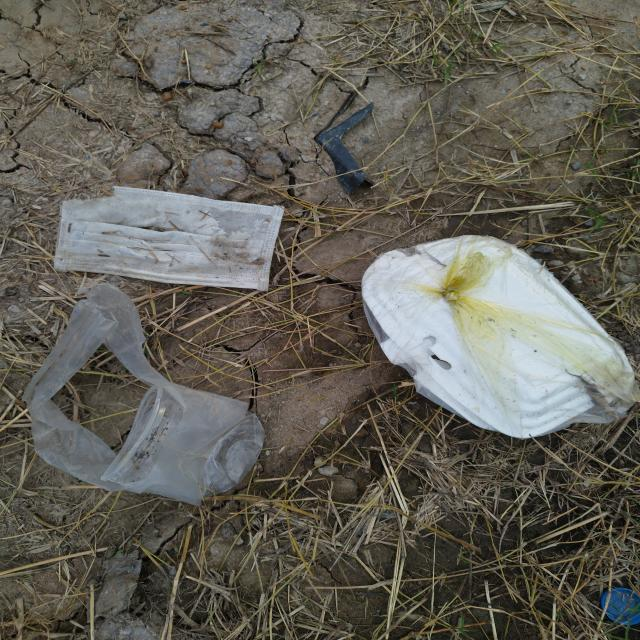bag: (24, 282, 268, 508)
mask: (54, 184, 284, 294)
trash bag: (362, 234, 634, 440)
